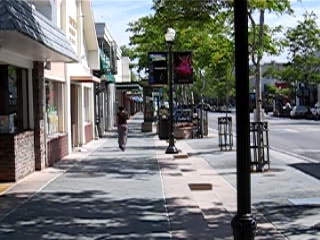person: (115, 105, 130, 153), (114, 105, 129, 153), (116, 105, 131, 153), (115, 104, 130, 152), (115, 106, 130, 154)
target_negative: (149, 8, 235, 231), (62, 181, 140, 226), (226, 138, 276, 196), (158, 97, 280, 115), (185, 186, 248, 207), (281, 20, 299, 46)
